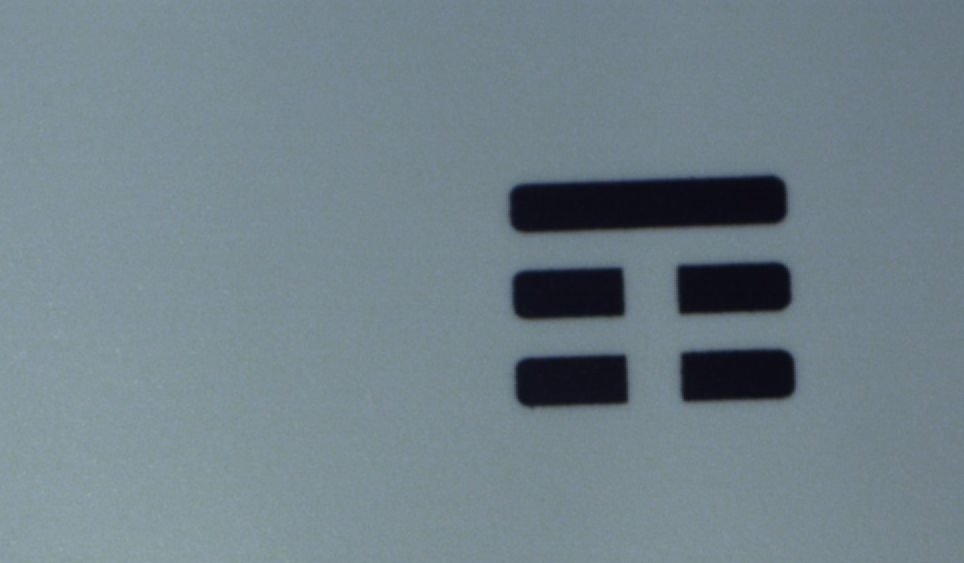BV_F6600PTIM: (483, 162, 825, 411)
